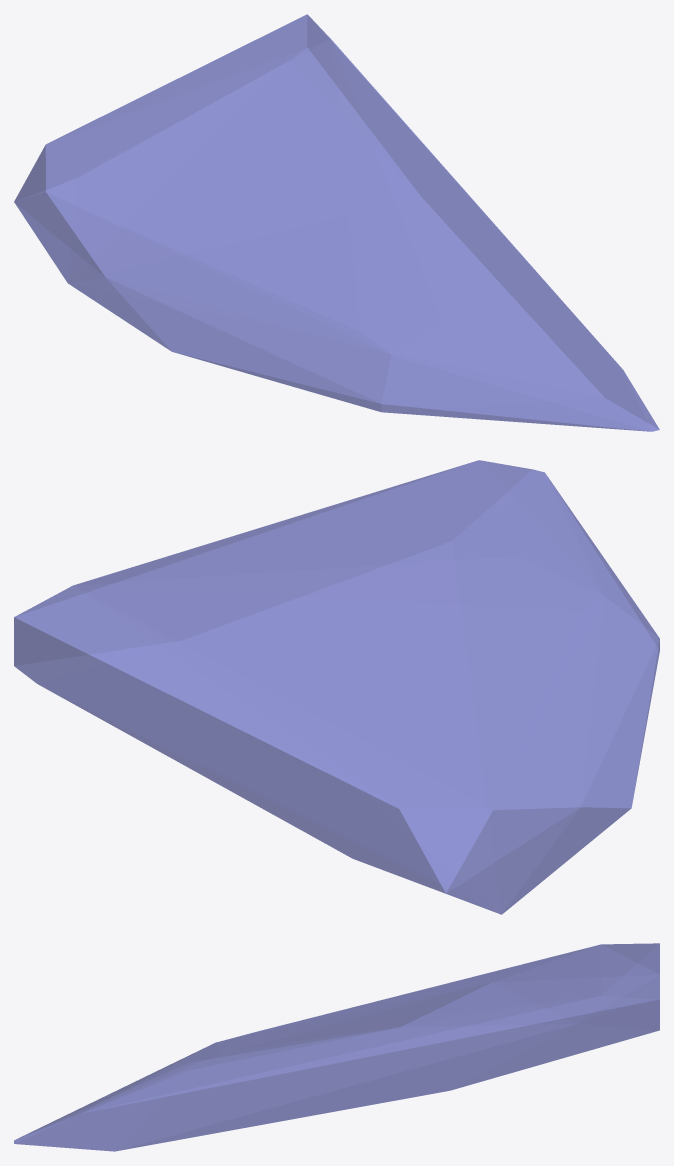
3 renders of one model, top to bottom at view 1: azimuth 30°, elevation 25°; view 2: azimuth 150°, elevation 25°; view 3: azimuth 270°, elevation 25°, orthographic. The views are drawn at different scales.
Visible parts, largest first — view 1: Shape_IndexedFaceSet.028_Shape_IndexedFaceSet.14061; view 2: Shape_IndexedFaceSet.028_Shape_IndexedFaceSet.14061; view 3: Shape_IndexedFaceSet.028_Shape_IndexedFaceSet.14061.
Boxes of the visible parts, <box> form: Shape_IndexedFaceSet.028_Shape_IndexedFaceSet.14061: <box>14,14,659,431</box>; Shape_IndexedFaceSet.028_Shape_IndexedFaceSet.14061: <box>14,460,659,914</box>; Shape_IndexedFaceSet.028_Shape_IndexedFaceSet.14061: <box>14,943,659,1151</box>.
Size of the model in its own units: 0.1237 by 0.0669 by 0.2575.
